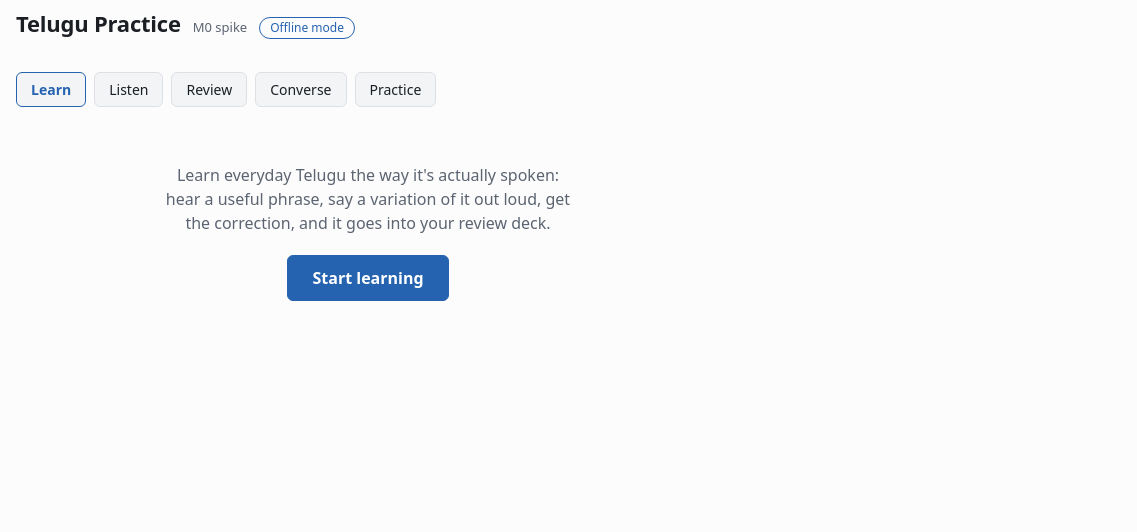
it: App › shows lastError when present
What coordinates should you click on to do the following:
click the button "Practice"
I would click on:
 (395, 90)
Its box is x1=354 y1=72 x2=436 y2=107.
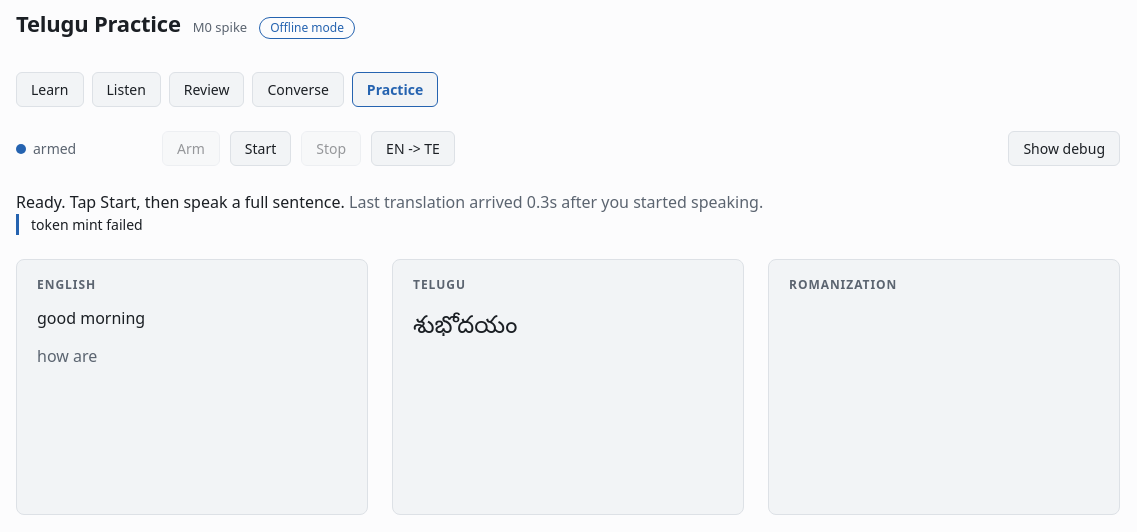
Now the text "token mint failed" is shown, box x1=16 y1=214 x2=1120 y2=235
